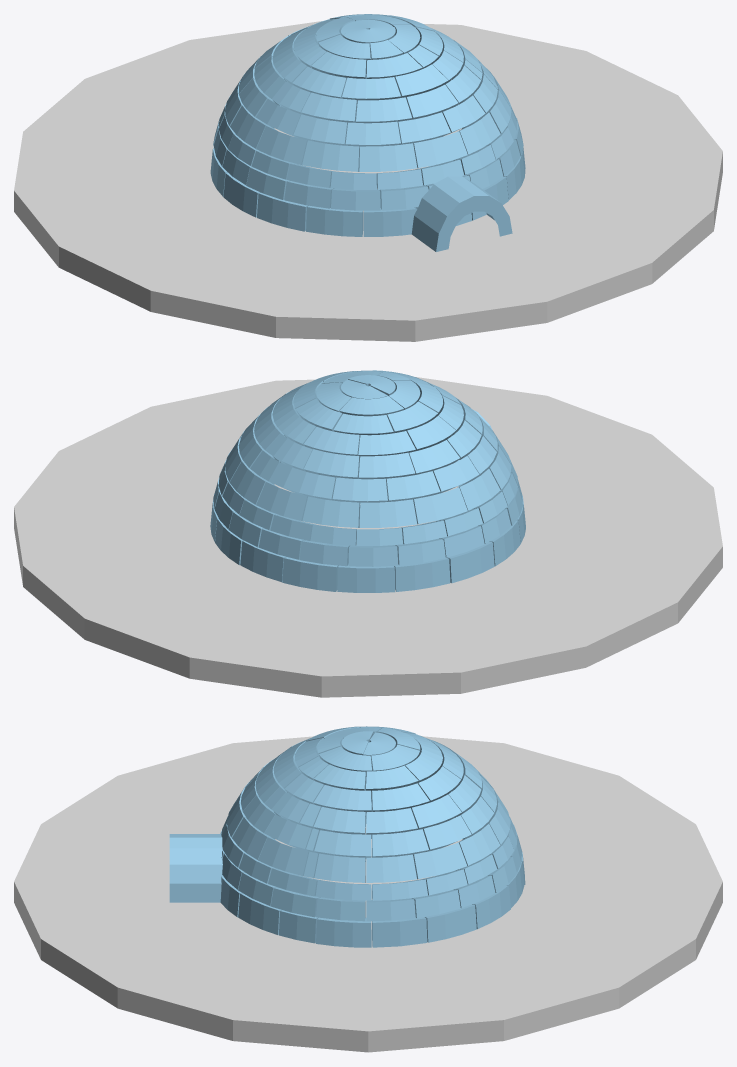
The model's file is igloo2.fbx.
The picture shows the model from 3 angles, top to bottom: view 1: azimuth 30°, elevation 25°; view 2: azimuth 150°, elevation 25°; view 3: azimuth 270°, elevation 25°; orthographic projection.
Visible parts, largest first — view 1: Cylinder.001, Wall.002, Cylinder; view 2: Cylinder.001, Wall.002; view 3: Cylinder.001, Wall.002, Cylinder.
Part boxes in pixels (x1,y1,x2,y2): Cylinder.001: (14, 21, 722, 341); Wall.002: (210, 14, 525, 236); Cylinder: (411, 165, 512, 251); Cylinder.001: (14, 377, 722, 697); Wall.002: (210, 370, 525, 592); Cylinder.001: (14, 736, 722, 1052); Wall.002: (220, 726, 525, 947); Cylinder: (169, 834, 223, 902).
Bounding box in the file's own units: 7260 × 1832 × 7260.
